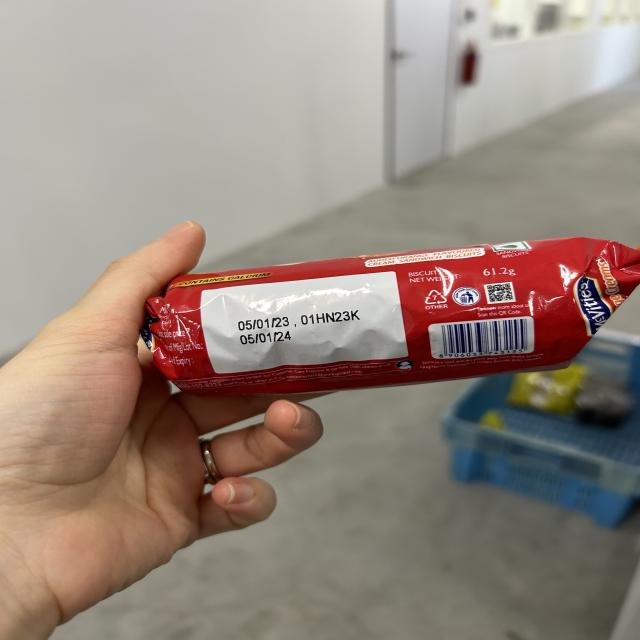object_name: (157, 275, 593, 372)
